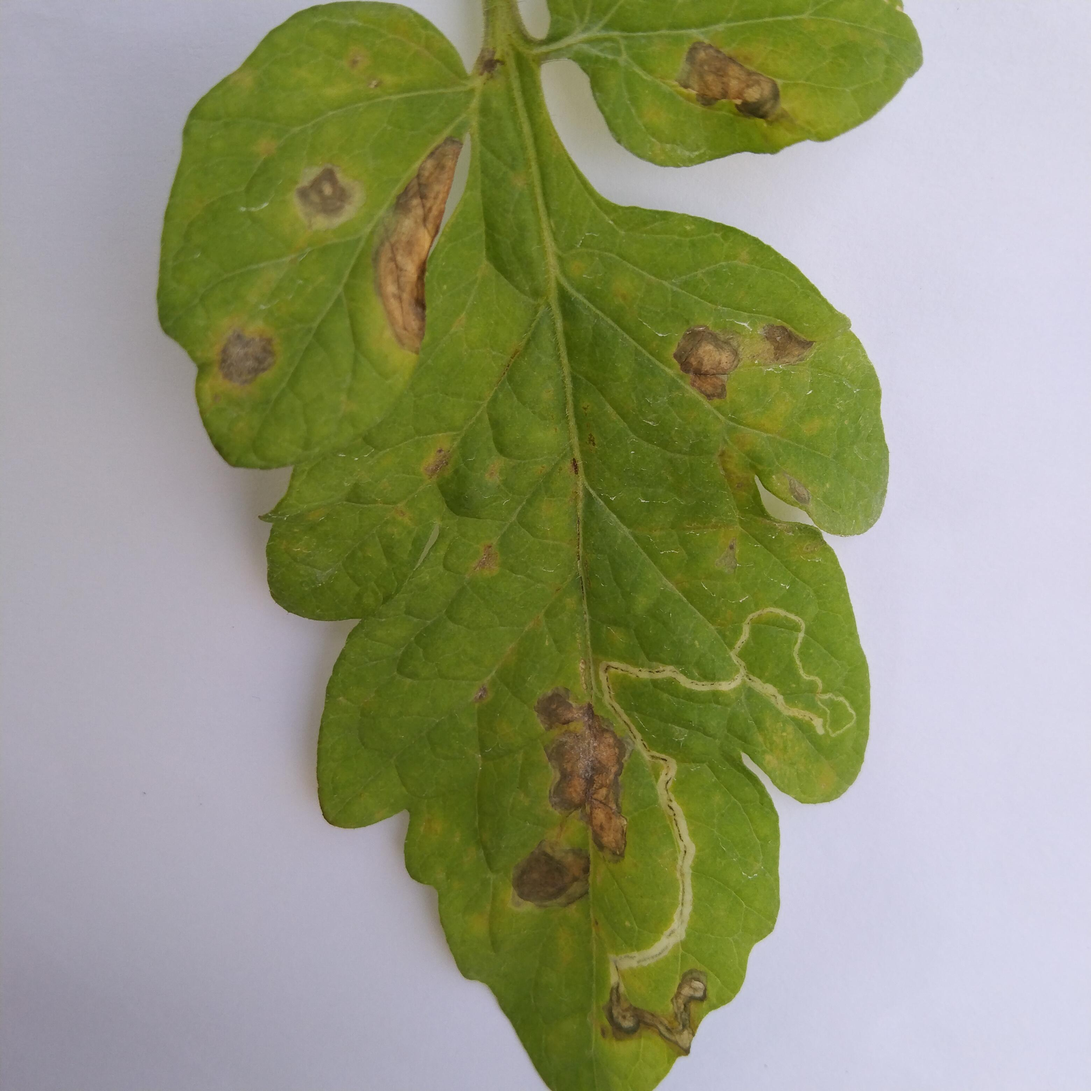Early Blight: (108, 63, 500, 409), (629, 248, 878, 455), (434, 692, 647, 913), (598, 7, 864, 178)
Leaf_Miner: (559, 594, 865, 972)
